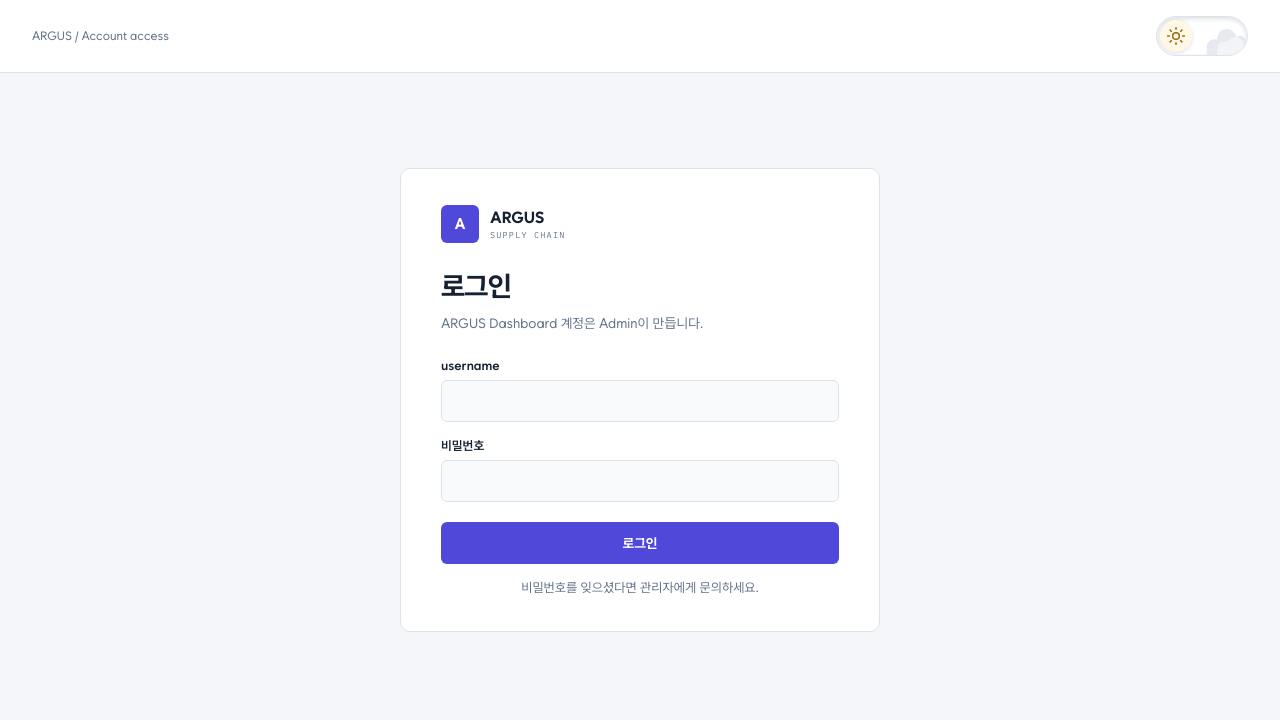
it: LoginPage › never signs in by email, even when the value has @
Step 1. Type "me@example.com" into the field labelled "username" → (640, 401), box [441, 380, 839, 422]
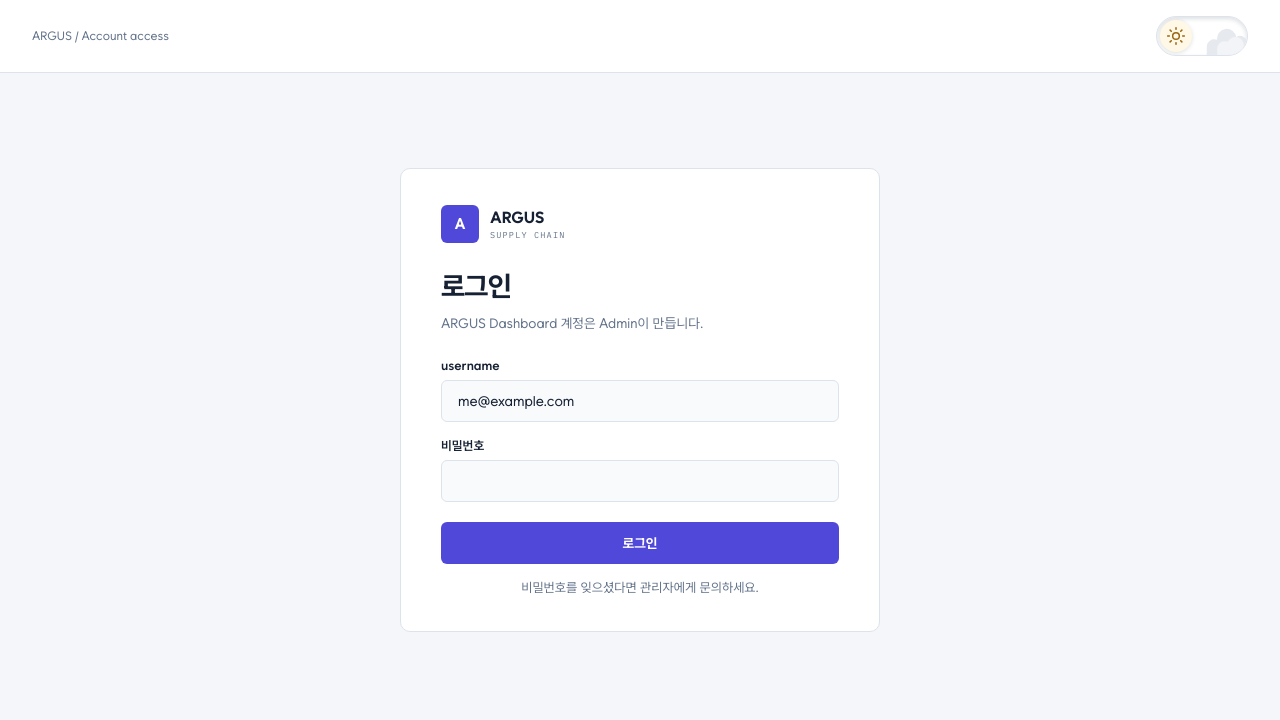
Step 2. Type "correct-horse-9" into the password field labelled "비밀번호" → (640, 481), box [441, 460, 839, 502]
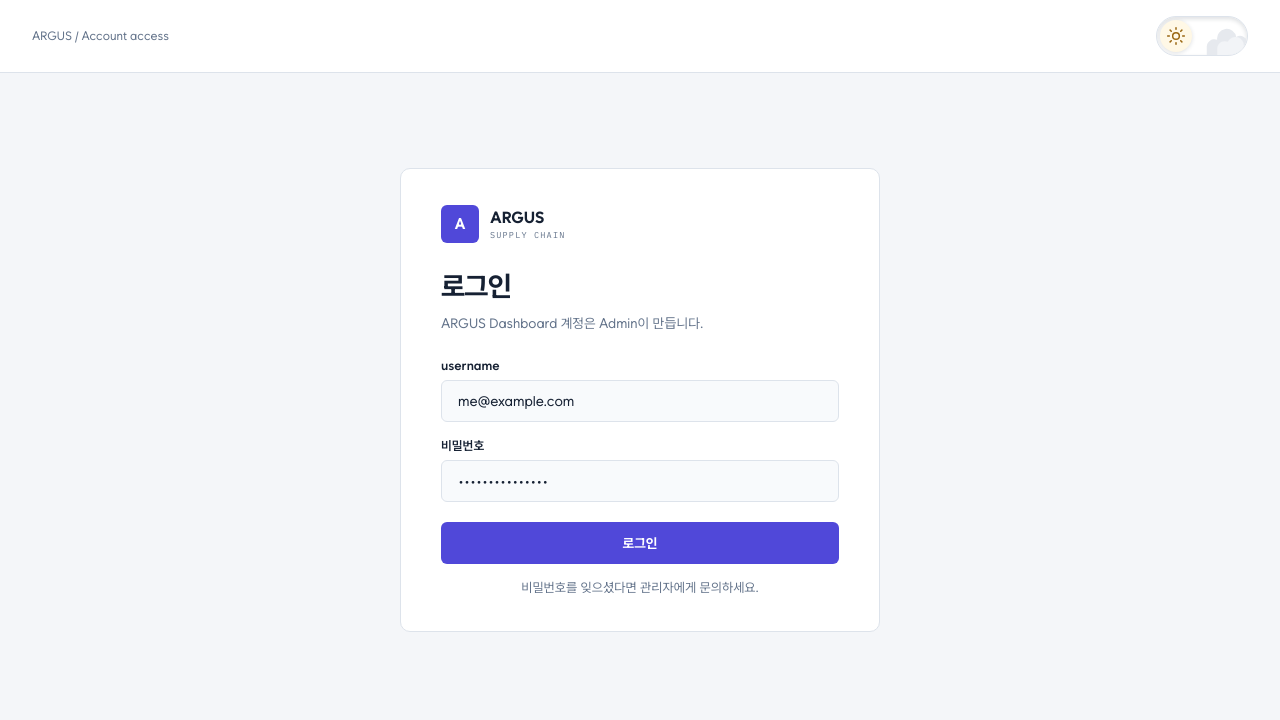
Step 3. Click the button "로그인" → (640, 543), box [441, 522, 839, 564]
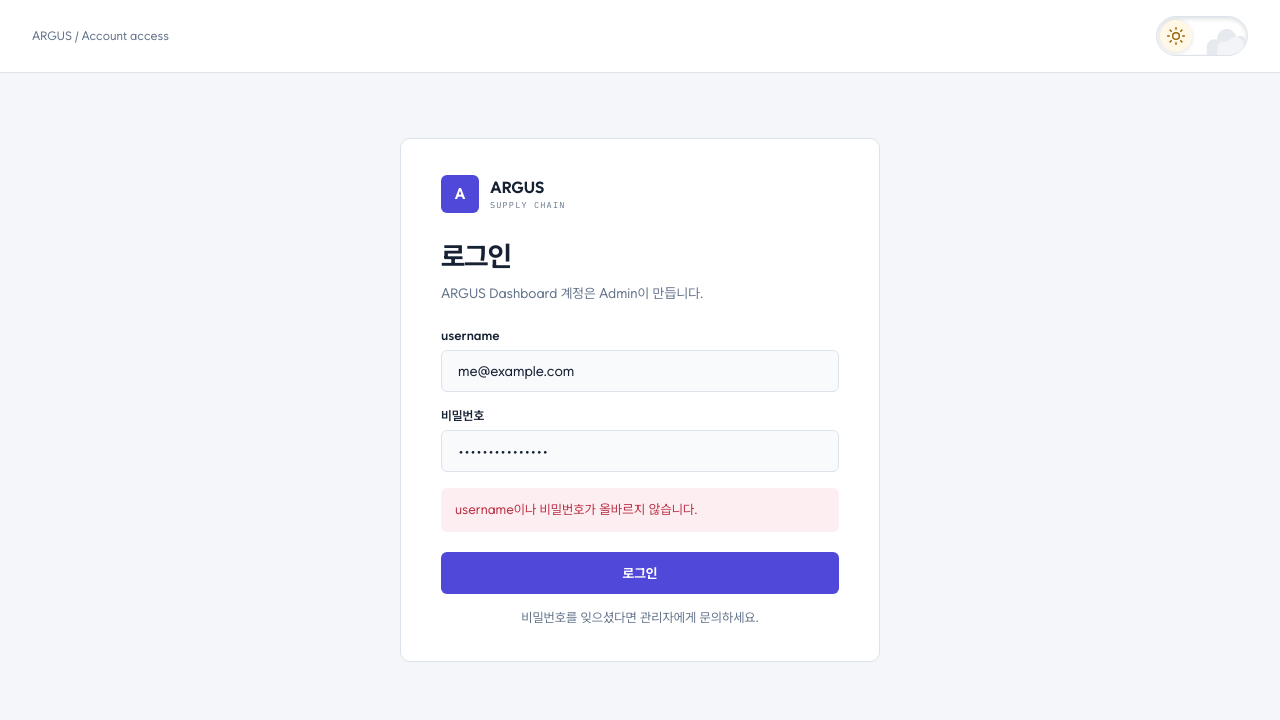
Now the message reads "username이나 비밀번호가 올바르지 않습니다.", box [455, 502, 698, 517]
